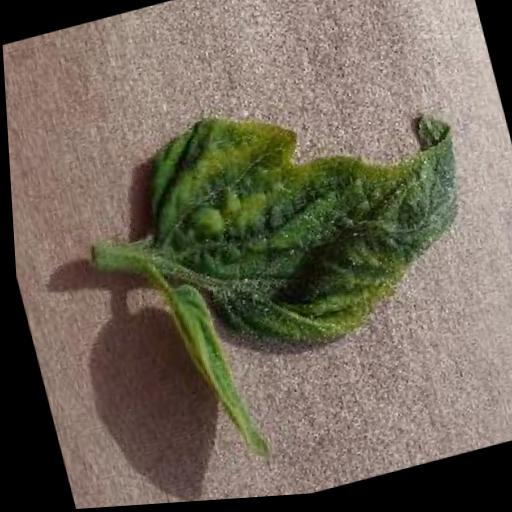Yellow Leaf Curl Virus: (125, 64, 494, 381)
